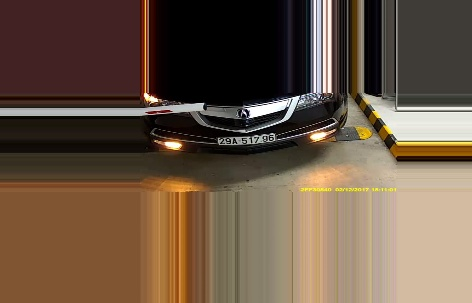plate: (217, 133, 279, 145)
